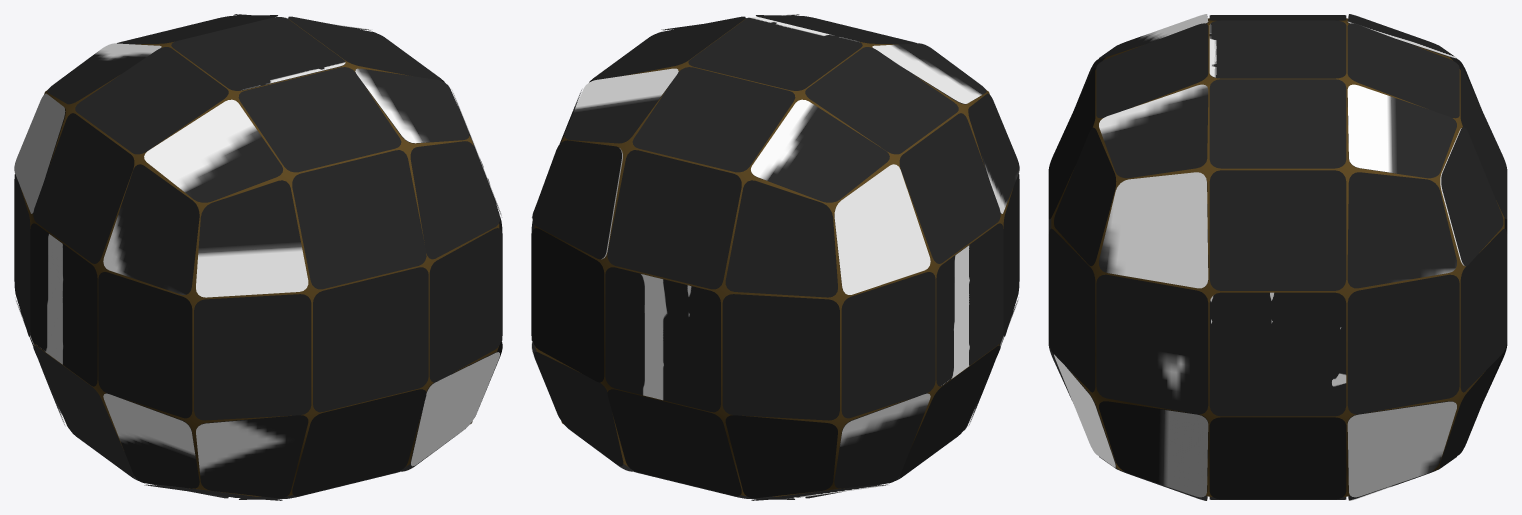
Rendered from Cubo_sfera.fbx.
3 views of the same model, side by side, from view 1: azimuth 30°, elevation 25°; view 2: azimuth 150°, elevation 25°; view 3: azimuth 270°, elevation 25° (orthographic). The views are drawn at different scales.
Visible parts, largest first — view 1: facce cubo, cubo-sfera protonazista.001; view 2: facce cubo, cubo-sfera protonazista.001; view 3: facce cubo, cubo-sfera protonazista.001.
Boxes of the visible parts, <box> form: facce cubo: <box>14,14,502,500</box>; cubo-sfera protonazista.001: <box>16,14,501,500</box>; facce cubo: <box>531,14,1019,500</box>; cubo-sfera protonazista.001: <box>532,14,1017,500</box>; facce cubo: <box>1048,14,1507,500</box>; cubo-sfera protonazista.001: <box>1049,16,1506,500</box>.
Bounding box in the file's own units: 199 × 199 × 199.
Materials: 2 (2 with a texture image).
